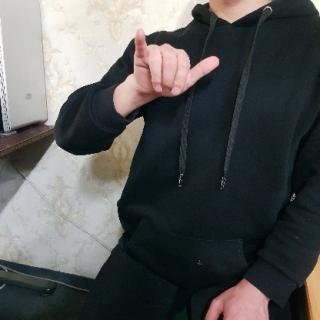YA: (129, 26, 224, 101)
